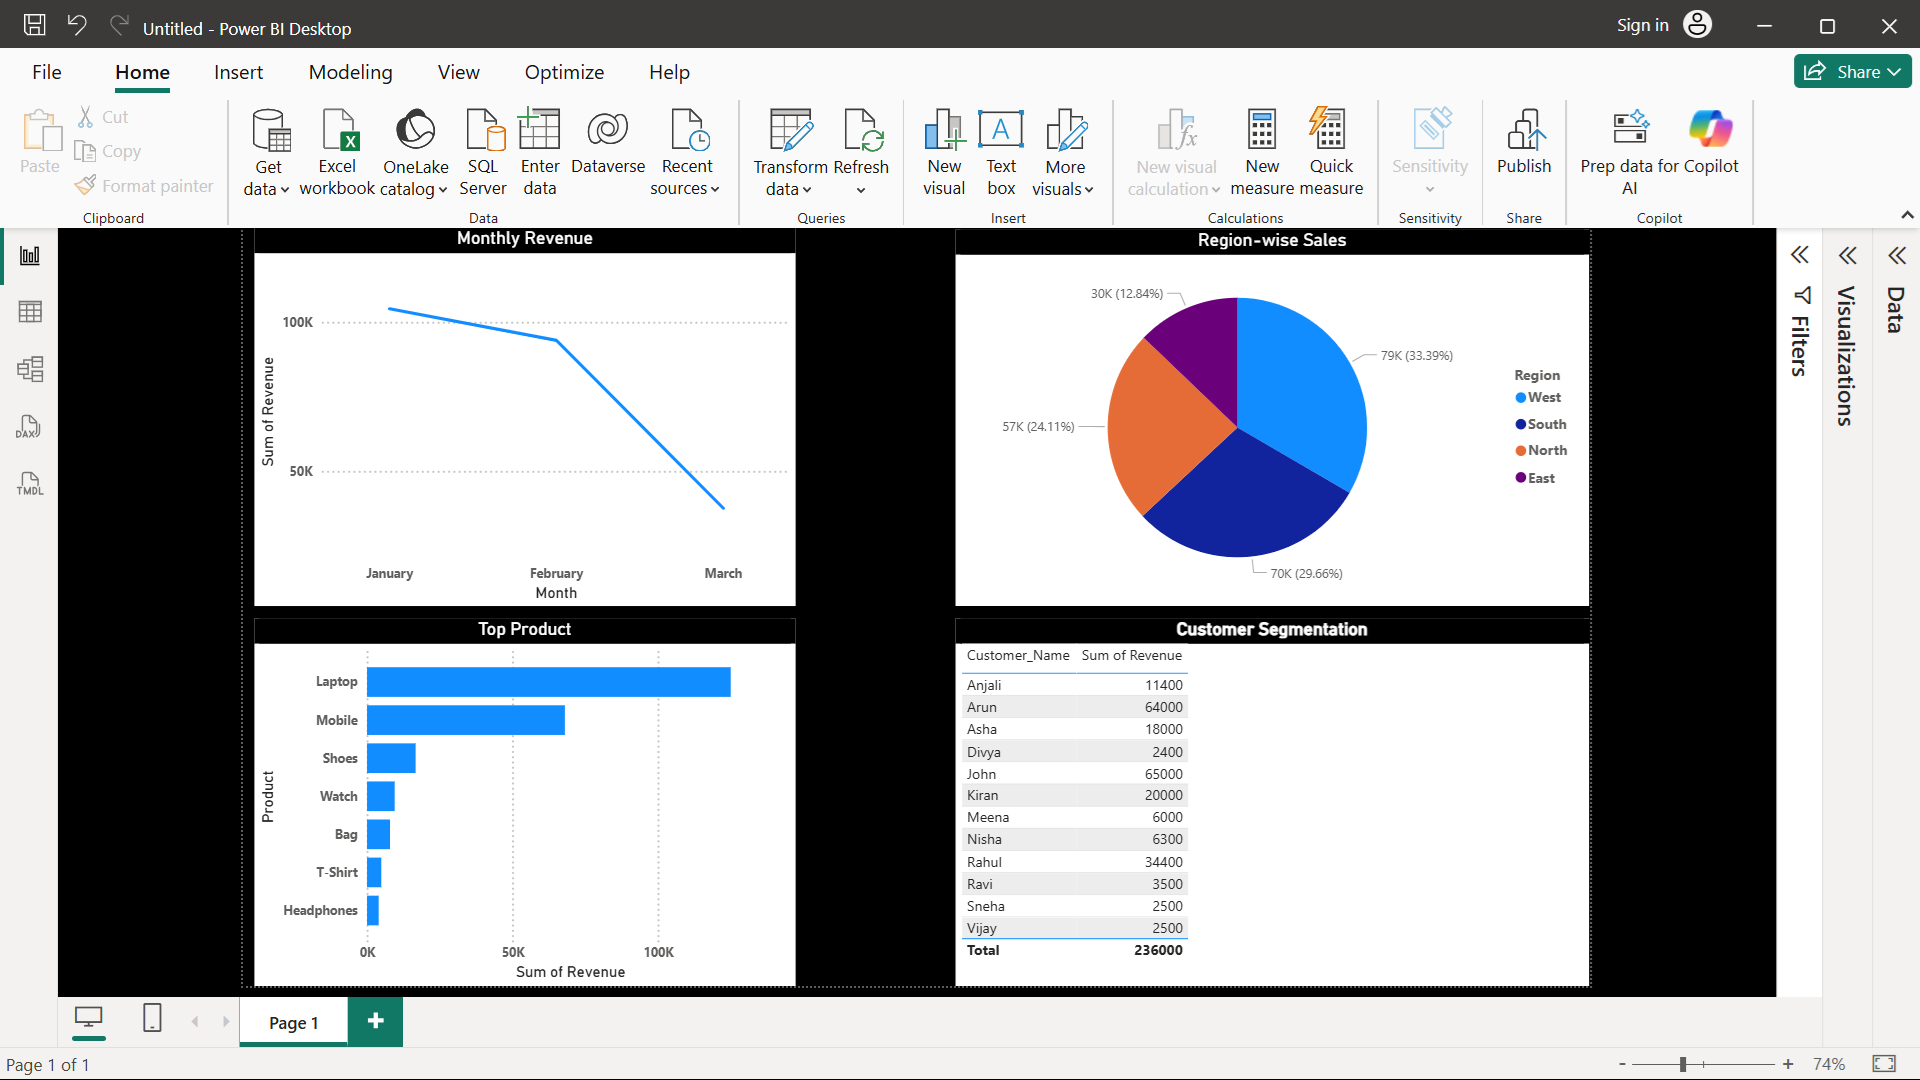

What the dashboard file says about the page in this screenshot:
{"tool":"powerbi","page":{"name":"Page 1","canvas":[1280,720],"ordinal":0},"visuals":[{"type":"lineChart","title":"Monthly Revenue","fields":{"Category":["sales_data.Order_Date.Variation.Date Hierarchy.Month"],"Y":["Sum(sales_data.Revenue)"]},"box":[10.3,0,514.2,359.4],"z":0},{"type":"barChart","title":"Top Product","fields":{"Category":["sales_data.Product"],"Y":["Sum(sales_data.Revenue)"]},"box":[10.3,371.5,514.2,349.1],"z":1000},{"type":"pieChart","title":"Region-wise Sales","fields":{"Category":["sales_data.Region"],"Y":["Sum(sales_data.Revenue)"]},"box":[677.6,1.7,601.9,357.7],"z":2000},{"type":"tableEx","title":"Customer Segmentation","fields":{"Values":["sales_data.Customer_Name","Sum(sales_data.Revenue)"]},"box":[677.6,371.5,601.9,349.1],"z":3000}]}

Visuals, with their boxes on the page's 1280x720 design canvas (x1, y1, x2, y2). These are canvas units, not pixel positions in the 1920x1080 screenshot, which may show the page scaled, cropped or inside an application window:
"Monthly Revenue" lineChart: bbox=[10, 0, 524, 359]
"Top Product" barChart: bbox=[10, 372, 524, 721]
"Region-wise Sales" pieChart: bbox=[678, 2, 1280, 359]
"Customer Segmentation" tableEx: bbox=[678, 372, 1280, 721]
